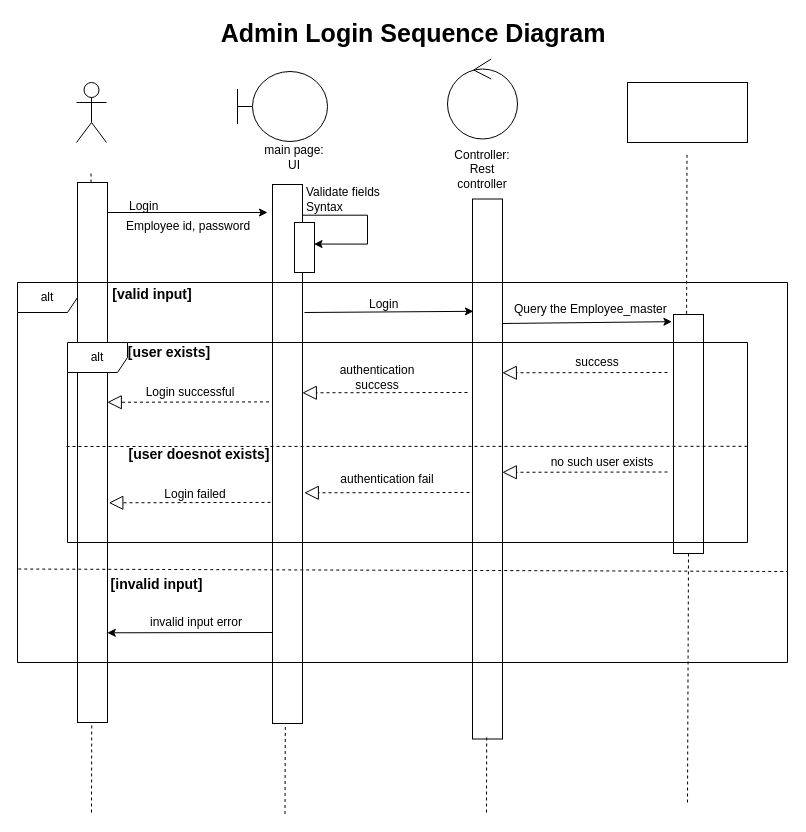
This 806x832 diagram has some shape labels left out. Here are the shapes that lost their labels. From the top down, the centre of each, then its label:
point 91,112: ADMIN
point 687,112: database: MYSQL Database
